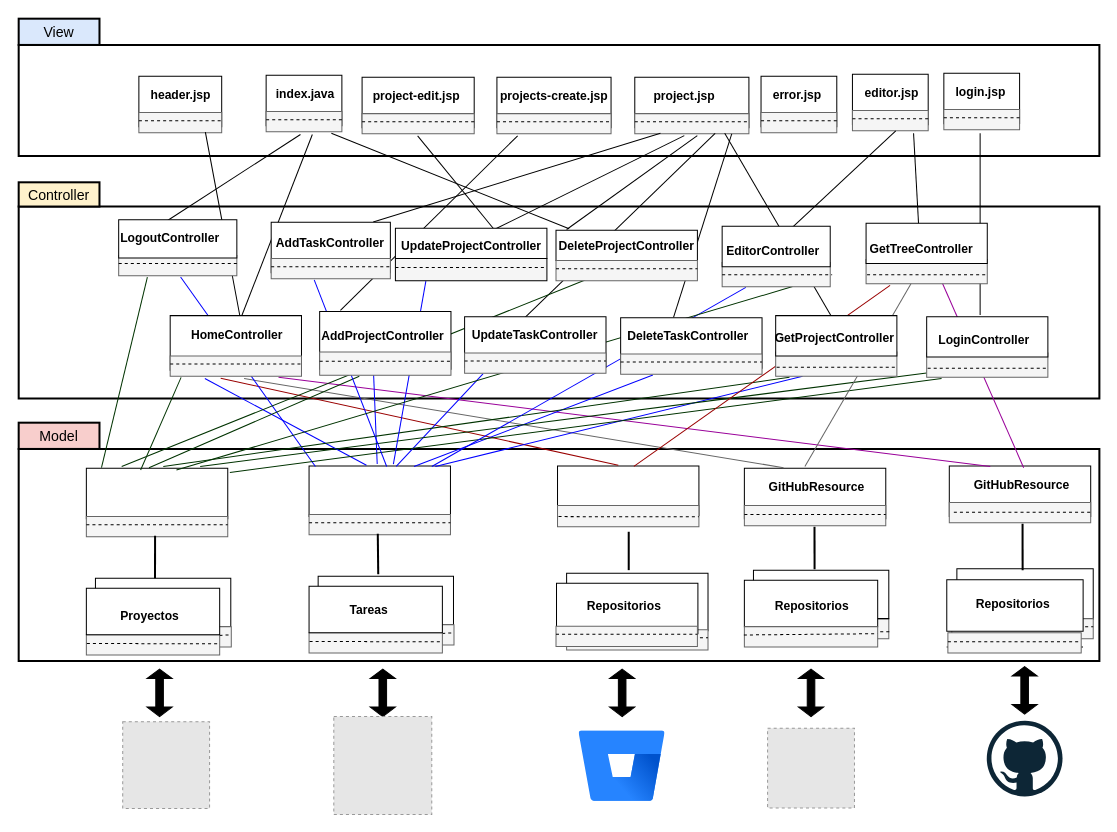
This 1117x832 diagram has some shape labels left out. Grey dashed boxes stand in for pictures. The box of each missing label's shape, as (x1, y1, x2, y2) in pixels:
BitbucketResource: (557, 465, 699, 516)
HarvestResource: (85, 467, 228, 519)
TodoIstResource: (308, 465, 450, 517)
